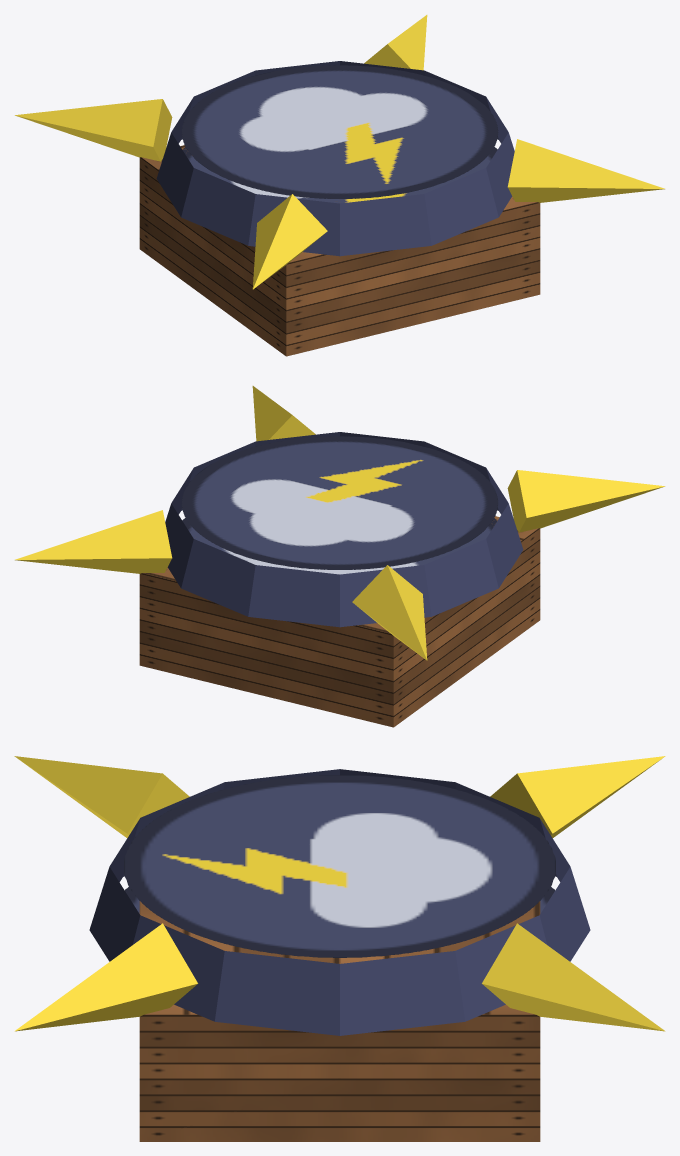
File: powerup_storm.obj
3 renders of one model, top to bottom at view 1: azimuth 30°, elevation 25°; view 2: azimuth 150°, elevation 25°; view 3: azimuth 270°, elevation 25°, orthographic. The views are drawn at different scales.
Visible parts, largest first — view 1: Icon, Crate; view 2: Icon, Crate; view 3: Icon, Crate.
Part boxes in pixels (bbox=[...]): Icon: bbox=[15, 15, 664, 289]; Crate: bbox=[139, 145, 540, 356]; Icon: bbox=[15, 386, 664, 660]; Crate: bbox=[139, 516, 540, 727]; Icon: bbox=[14, 756, 665, 1035]; Crate: bbox=[139, 901, 540, 1141].
Bounding box in the file's own units: 1.3 × 0.46 × 1.3.
Materials: 4 (2 with a texture image).
